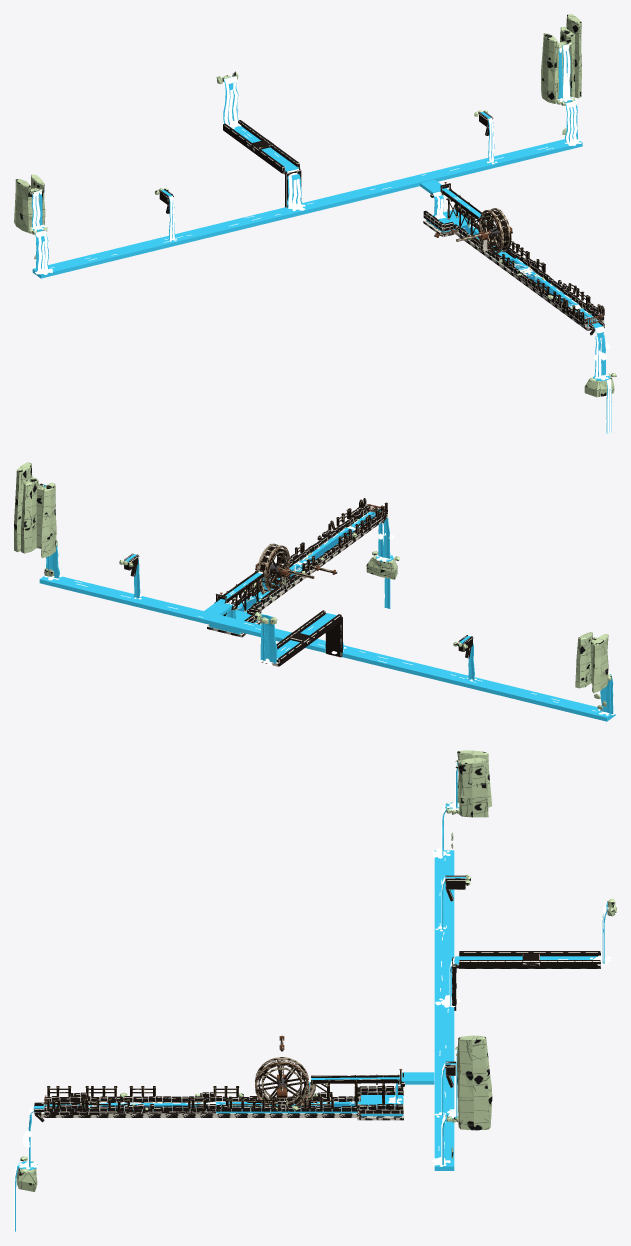
The model's file is LOBBY_05_WATER_SYSTEM_286566.fbx.
3 views of the same model, one above another, from view 1: azimuth 30°, elevation 25°; view 2: azimuth 150°, elevation 25°; view 3: azimuth 270°, elevation 25° (orthographic). The views are drawn at different scales.
Parts seen in each view (by area): view 1: WATER_Waterfalls__Water, WATER_Waterfalls__Cliff_Rock, WATER_Waterfalls__Water_Fall, WATER_Pool_River__Water, WATER_Waterfalls__Stone_Light, WATER_Waterfalls__Cliff_Rock_Dark, WATER_Waterfalls__Foam_g15_16, WATER_Pool_River__Stone_Light, WATER_River_Fences__Wood_Dark_C, WATER_Waterwheel__Wood_Dark_B, WATER_Pool_River__Stone_Dark_B, WATER_Pool_River__Stone_Dark_C; view 2: WATER_Waterfalls__Water, WATER_Waterfalls__Cliff_Rock, WATER_Pool_River__Water, WATER_Waterfalls__Cliff_Rock_Dark, WATER_Waterfalls__Stone_Light, WATER_Waterfalls__Cliff_Rock_B, WATER_Waterwheel__Wood_Dark_B, WATER_Pool_River__Stone_Light, WATER_River_Fences__Wood_Dark_C, WATER_Waterfalls__Stone_Dark, WATER_Pool_River__Stone_Dark_B, WATER_Pool_River__Stone_Dark_C (+5 smaller); view 3: WATER_Waterfalls__Water, WATER_Waterfalls__Cliff_Rock, WATER_Waterfalls__Stone_Light, WATER_Pool_River__Stone_Light, WATER_Pool_River__Water, WATER_Waterfalls__Cliff_Rock_B, WATER_Pool_River__Stone_Dark_C, WATER_Pool_River__Stone_Dark_B, WATER_River_Fences__Wood_Dark_C, WATER_Pool_River__Stone_Light_B, WATER_Waterwheel__Wood_Dark_B, WATER_Pool_River__Wood_Plank_C (+3 smaller).
Part boxes in pixels (x1,y1,x2,y2): WATER_Waterfalls__Water: [31, 44, 582, 278]; WATER_Waterfalls__Cliff_Rock: [29, 14, 581, 231]; WATER_Waterfalls__Water_Fall: [32, 50, 577, 270]; WATER_Pool_River__Water: [426, 190, 611, 433]; WATER_Waterfalls__Stone_Light: [159, 111, 492, 205]; WATER_Waterfalls__Cliff_Rock_Dark: [14, 41, 568, 259]; WATER_Waterfalls__Foam_g15_16: [31, 76, 298, 274]; WATER_Pool_River__Stone_Light: [427, 204, 604, 328]; WATER_River_Fences__Wood_Dark_C: [493, 227, 604, 320]; WATER_Waterwheel__Wood_Dark_B: [434, 208, 511, 253]; WATER_Pool_River__Stone_Dark_B: [423, 207, 604, 335]; WATER_Pool_River__Stone_Dark_C: [426, 217, 590, 330]; WATER_Waterfalls__Water: [39, 484, 615, 721]; WATER_Waterfalls__Cliff_Rock: [14, 462, 467, 648]; WATER_Pool_River__Water: [209, 509, 393, 634]; WATER_Waterfalls__Cliff_Rock_Dark: [36, 486, 608, 709]; WATER_Waterfalls__Stone_Light: [124, 553, 472, 666]; WATER_Waterfalls__Cliff_Rock_B: [575, 632, 611, 688]; WATER_Waterwheel__Wood_Dark_B: [257, 543, 337, 591]; WATER_Pool_River__Stone_Light: [227, 507, 387, 622]; WATER_River_Fences__Wood_Dark_C: [239, 498, 387, 597]; WATER_Waterfalls__Stone_Dark: [130, 556, 473, 666]; WATER_Pool_River__Stone_Dark_B: [207, 505, 387, 637]; WATER_Pool_River__Stone_Dark_C: [250, 515, 387, 622]; WATER_Waterfalls__Water: [395, 762, 607, 1170]; WATER_Waterfalls__Cliff_Rock: [446, 760, 615, 1130]; WATER_Waterfalls__Stone_Light: [400, 875, 600, 1086]; WATER_Pool_River__Stone_Light: [34, 1086, 403, 1114]; WATER_Pool_River__Water: [15, 1077, 403, 1231]; WATER_Waterfalls__Cliff_Rock_B: [446, 757, 488, 1110]; WATER_Pool_River__Stone_Dark_C: [41, 1085, 395, 1117]; WATER_Pool_River__Stone_Dark_B: [34, 1087, 403, 1122]; WATER_River_Fences__Wood_Dark_C: [47, 1086, 334, 1109]; WATER_Pool_River__Stone_Light_B: [44, 1086, 403, 1114]; WATER_Waterwheel__Wood_Dark_B: [255, 1035, 308, 1106]; WATER_Pool_River__Wood_Plank_C: [293, 1075, 399, 1105].
Bounding box in the file's own units: 266 × 108 × 208.
10 materials, 4 textured.
